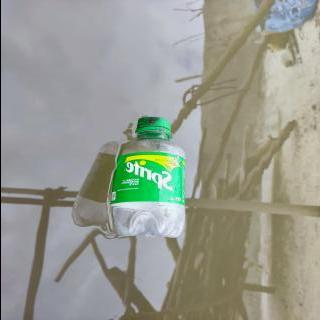bottle: (107, 115, 186, 240)
